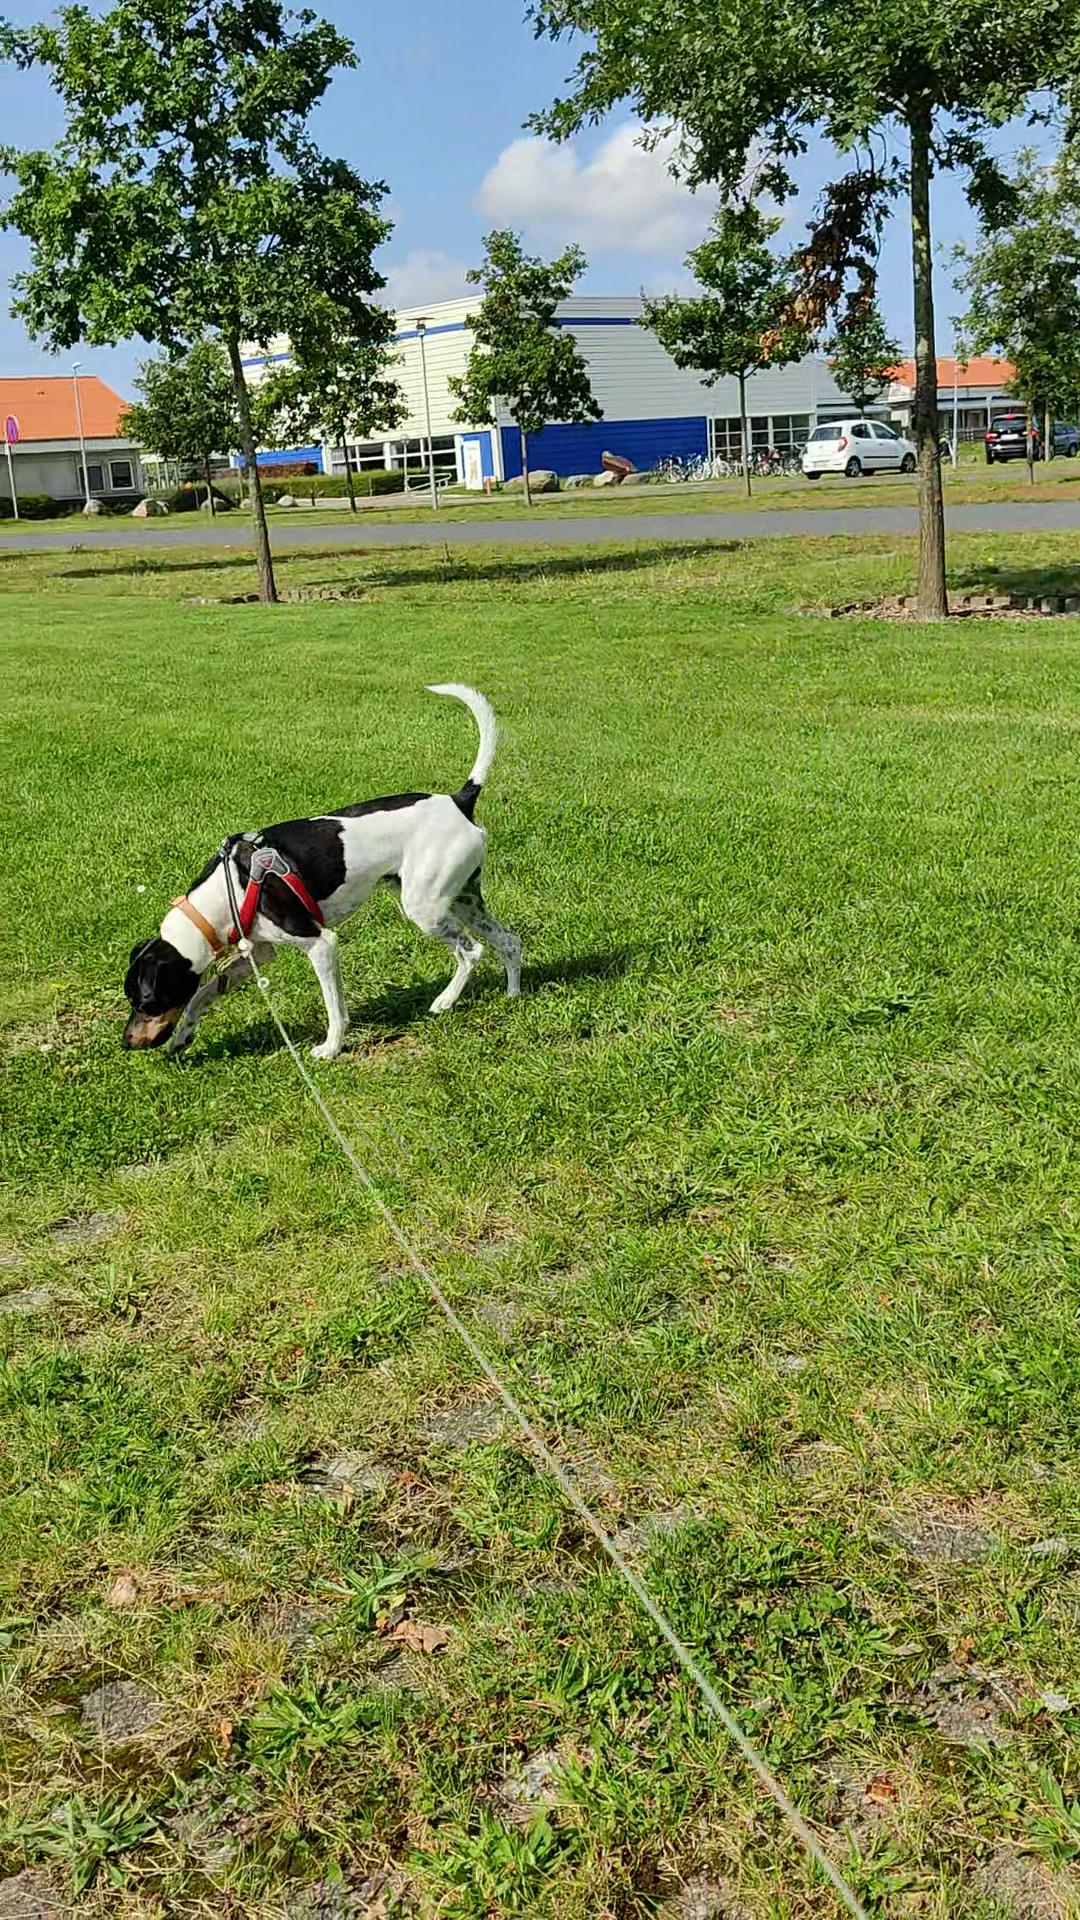Dog: (99, 667, 529, 1072)
